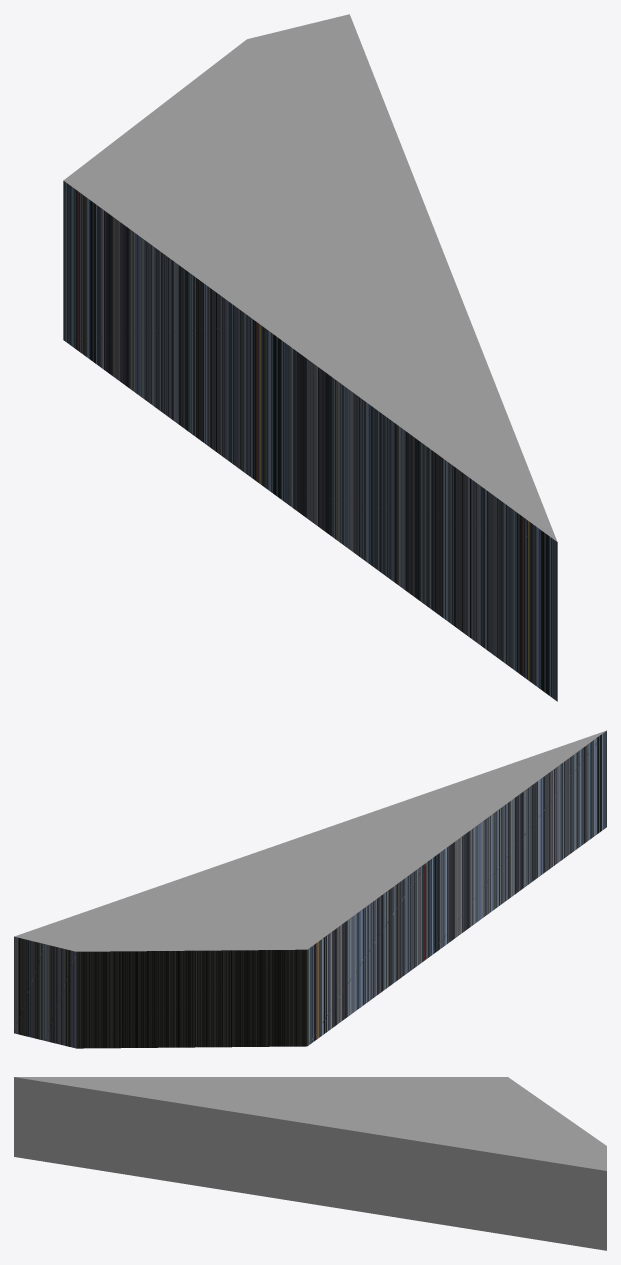
File: someShit8.obj
The picture shows the model from 3 angles, top to bottom: view 1: azimuth 30°, elevation 25°; view 2: azimuth 150°, elevation 25°; view 3: azimuth 270°, elevation 25°; orthographic projection. The views are drawn at different scales.
Visible parts, largest first — view 1: Plane.008_Plane.009; view 2: Plane.008_Plane.009; view 3: Plane.008_Plane.009.
Boxes of the visible parts, left/top/right/bottom form: Plane.008_Plane.009: left=63, top=14, right=557, bottom=701; Plane.008_Plane.009: left=14, top=730, right=606, bottom=1048; Plane.008_Plane.009: left=14, top=1077, right=606, bottom=1250.
Bounding box in the file's own units: 225 × 89.1 × 600.
3 materials, 2 textured.
